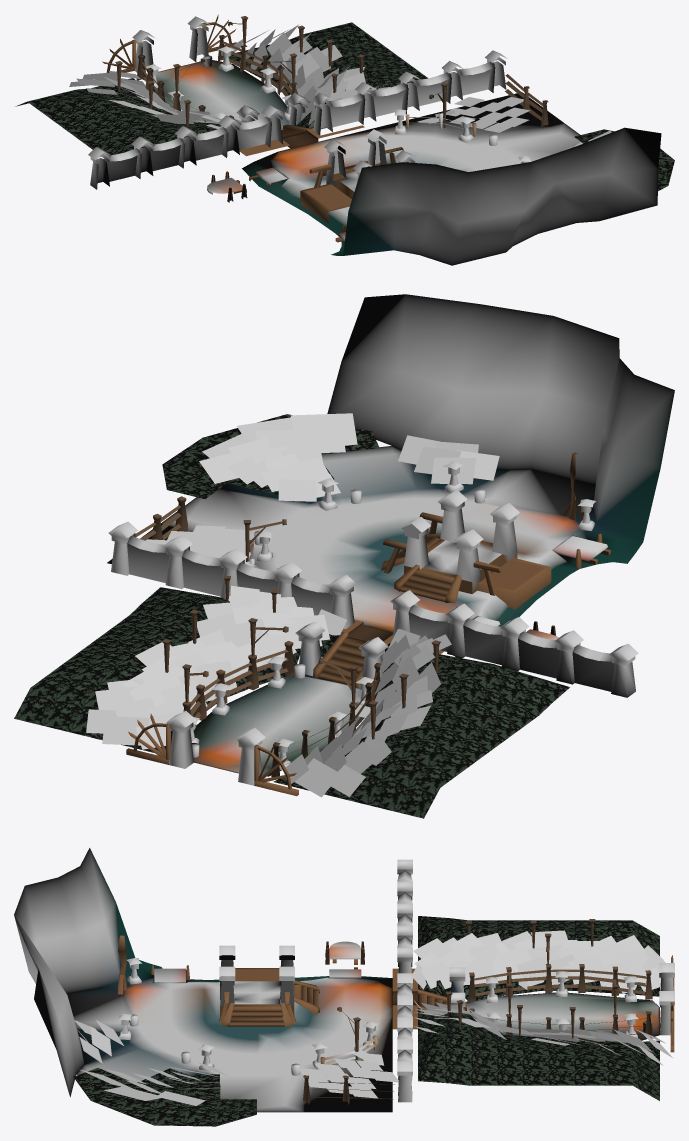
File: zone06.FBX
The picture shows the model from 3 angles, top to bottom: view 1: azimuth 30°, elevation 25°; view 2: azimuth 150°, elevation 25°; view 3: azimuth 270°, elevation 25°; orthographic projection. The views are drawn at different scales.
Visible parts, largest first — view 1: Object36, Object01, Box03, Object13, Object06, Object08, Object32; view 2: Object36, Box03, Object13, Object01, Object06, Object32, Object08; view 3: Object36, Box03, Object13, Object01, Object32, Object06, Object08.
Boxes of the visible parts, bbox=[...] form: Object36: bbox=[88, 50, 661, 265]; Object01: bbox=[102, 14, 364, 138]; Box03: bbox=[15, 22, 427, 154]; Object13: bbox=[69, 24, 390, 130]; Object06: bbox=[417, 97, 611, 157]; Object08: bbox=[505, 74, 548, 128]; Object32: bbox=[574, 129, 674, 190]; Object36: bbox=[107, 294, 674, 697]; Box03: bbox=[14, 587, 569, 818]; Object13: bbox=[86, 585, 451, 797]; Object01: bbox=[126, 575, 440, 796]; Object06: bbox=[145, 413, 499, 566]; Object32: bbox=[162, 414, 379, 498]; Object08: bbox=[135, 496, 187, 540]; Object36: bbox=[14, 848, 417, 1112]; Box03: bbox=[418, 916, 659, 1100]; Object13: bbox=[413, 930, 673, 1065]; Object01: bbox=[418, 919, 674, 1052]; Object32: bbox=[73, 1068, 256, 1126]; Object06: bbox=[74, 1019, 398, 1105]; Object08: bbox=[303, 1075, 394, 1104].
Size of the model in its own units: 5184 by 1298 by 6124.
